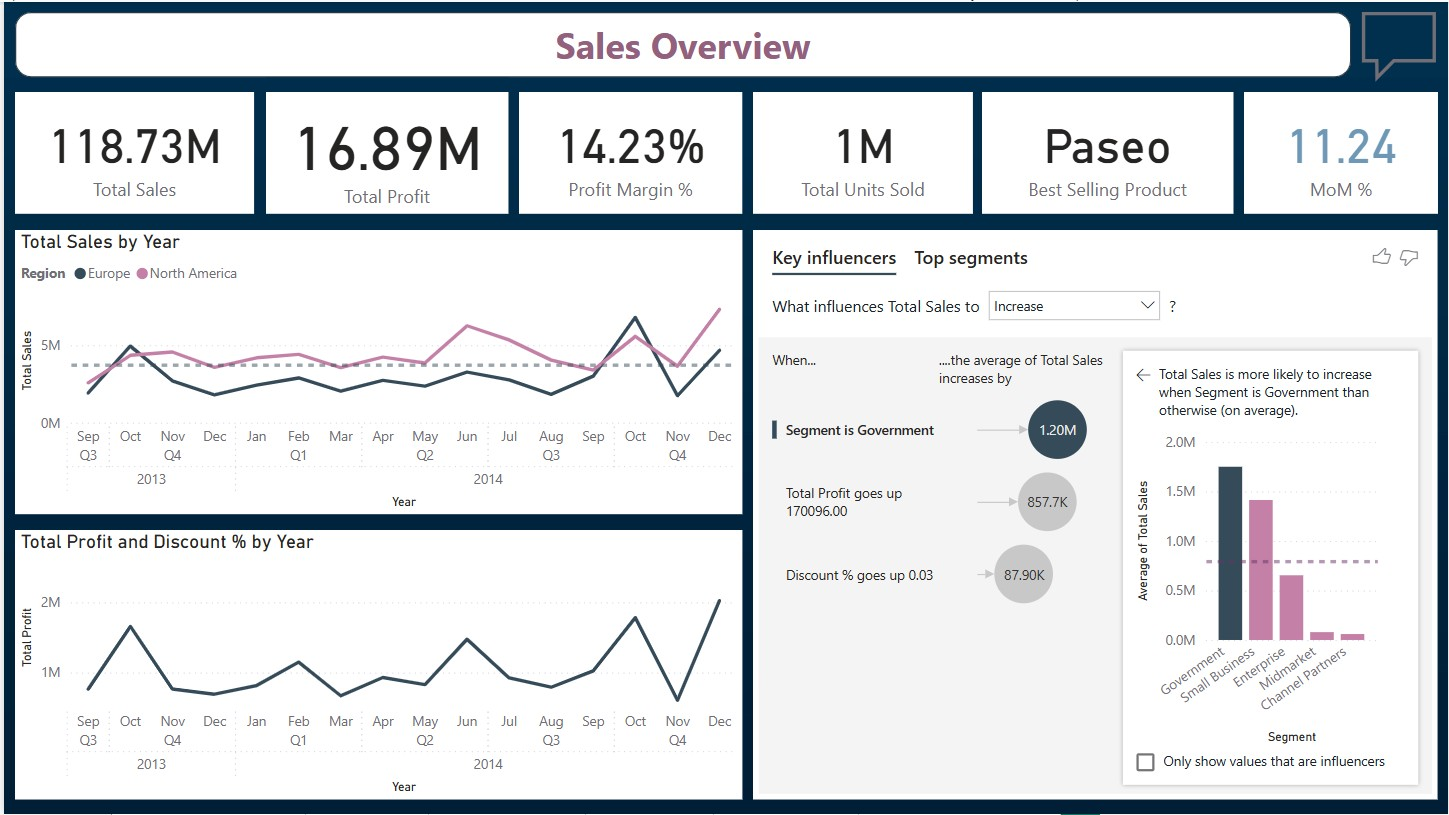

Layout of this report page (visuals, bound fields, positions):
{"tool":"powerbi","page":{"name":"Sales Overview","canvas":[1280,720],"ordinal":1},"visuals":[{"type":"shape","box":[9.7,8.4,1184.7,57.9],"z":0},{"type":"actionButton","box":[1196.8,0,83.2,79.6],"z":1000},{"type":"card","fields":{"Values":["FinanceData.Total Sales"]},"box":[9.8,79.8,211.9,108.2],"z":2000},{"type":"card","fields":{"Values":["FinanceData.Profit Margin %"]},"box":[456.7,79.8,197.7,108.2],"z":3000},{"type":"card","fields":{"Values":["FinanceData.Total Units Sold"]},"box":[664.1,79.8,195.1,108.2],"z":4000},{"type":"lineChart","title":"Total Profit and Discount % by Year","fields":{"Y":["FinanceData.Total Profit"],"Category":["Dates.Year Hierarchy.Year","Dates.Year Hierarchy.Quarter","Dates.Year Hierarchy.Month"]},"box":[9.8,468.2,644.6,238.5],"z":5000},{"type":"card","fields":{"Values":["FinanceData.Best Selling Product"]},"box":[867.2,79.8,222.6,108.2],"z":6000},{"type":"card","fields":{"Values":["FinanceData.MoM %"]},"box":[1099.5,79.8,172,108.2],"z":7000},{"type":"lineChart","title":"Total Sales by Year","fields":{"Y":["FinanceData.Total Sales"],"Category":["Dates.Year Hierarchy.Year","Dates.Year Hierarchy.Quarter","Dates.Year Hierarchy.Month"],"Series":["FinanceData.Region"]},"box":[9.8,202.2,644.6,251.8],"z":8000},{"type":"card","fields":{"Values":["FinanceData.Total Profit"]},"box":[232.3,79.8,214.6,108.2],"z":15000},{"type":"keyDriversVisual","fields":{"Target":["FinanceData.Total Sales"],"ExplainBy":["FinanceData.Country","FinanceData.Product","FinanceData.Segment","FinanceData.Total Profit","FinanceData.Discount %"]},"box":[664.1,202.2,606.5,504.5],"z":15001}]}

Visuals, with their boxes in screenshot pixels (x1, y1, x2, y2), scaled from the page's 1280x720 canvas onto the 1449x815 screenshot:
shape: rect(11, 10, 1352, 75)
actionButton: rect(1355, 0, 1448, 90)
card - FinanceData.Total Sales: rect(11, 90, 251, 213)
card - FinanceData.Profit Margin %: rect(517, 90, 741, 213)
card - FinanceData.Total Units Sold: rect(752, 90, 973, 213)
"Total Profit and Discount % by Year" lineChart: rect(11, 530, 741, 800)
card - FinanceData.Best Selling Product: rect(982, 90, 1234, 213)
card - FinanceData.MoM %: rect(1245, 90, 1439, 213)
"Total Sales by Year" lineChart: rect(11, 229, 741, 514)
card - FinanceData.Total Profit: rect(263, 90, 506, 213)
keyDriversVisual - FinanceData.Total Sales x FinanceData.Country: rect(752, 229, 1438, 800)
